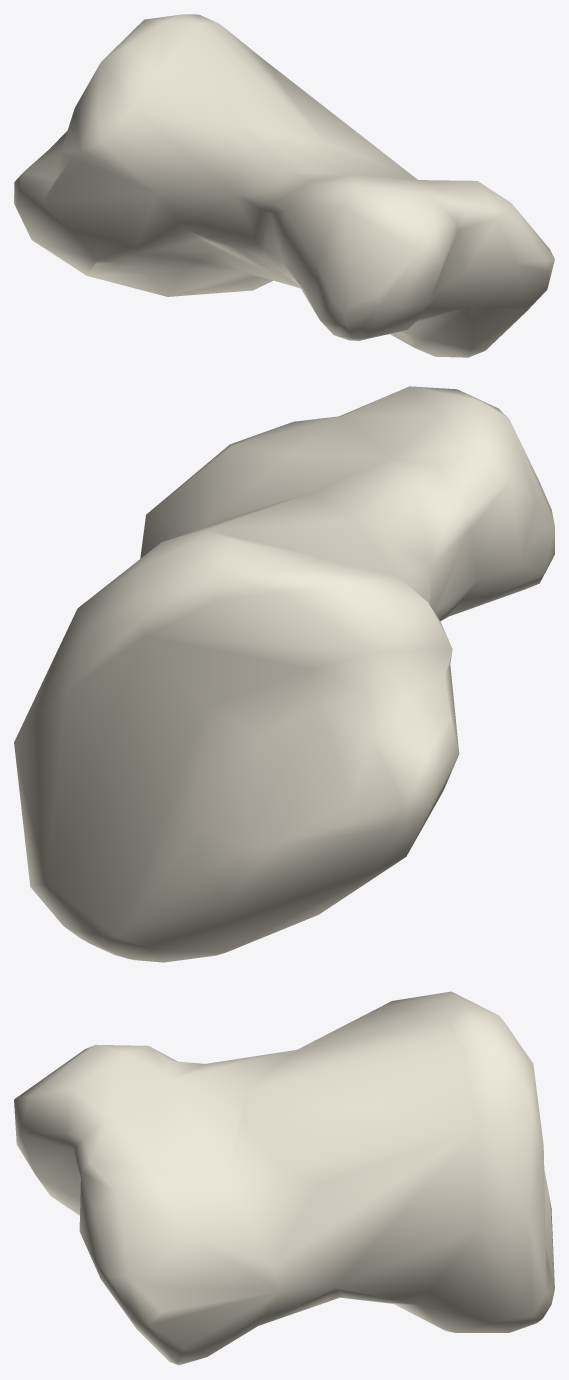
The picture shows the model from 3 angles, top to bottom: view 1: azimuth 30°, elevation 25°; view 2: azimuth 150°, elevation 25°; view 3: azimuth 270°, elevation 25°; orthographic projection. The views are drawn at different scales.
Parts seen in each view (by area): view 1: ZA_55245cbccd638c8c; view 2: ZA_55245cbccd638c8c; view 3: ZA_55245cbccd638c8c.
Boxes of the visible parts, <box> form: ZA_55245cbccd638c8c: <box>14,14,554,357</box>; ZA_55245cbccd638c8c: <box>14,386,554,962</box>; ZA_55245cbccd638c8c: <box>14,991,554,1365</box>.
Bounding box in the file's own units: 0.0111 × 0.00834 × 0.0141.
